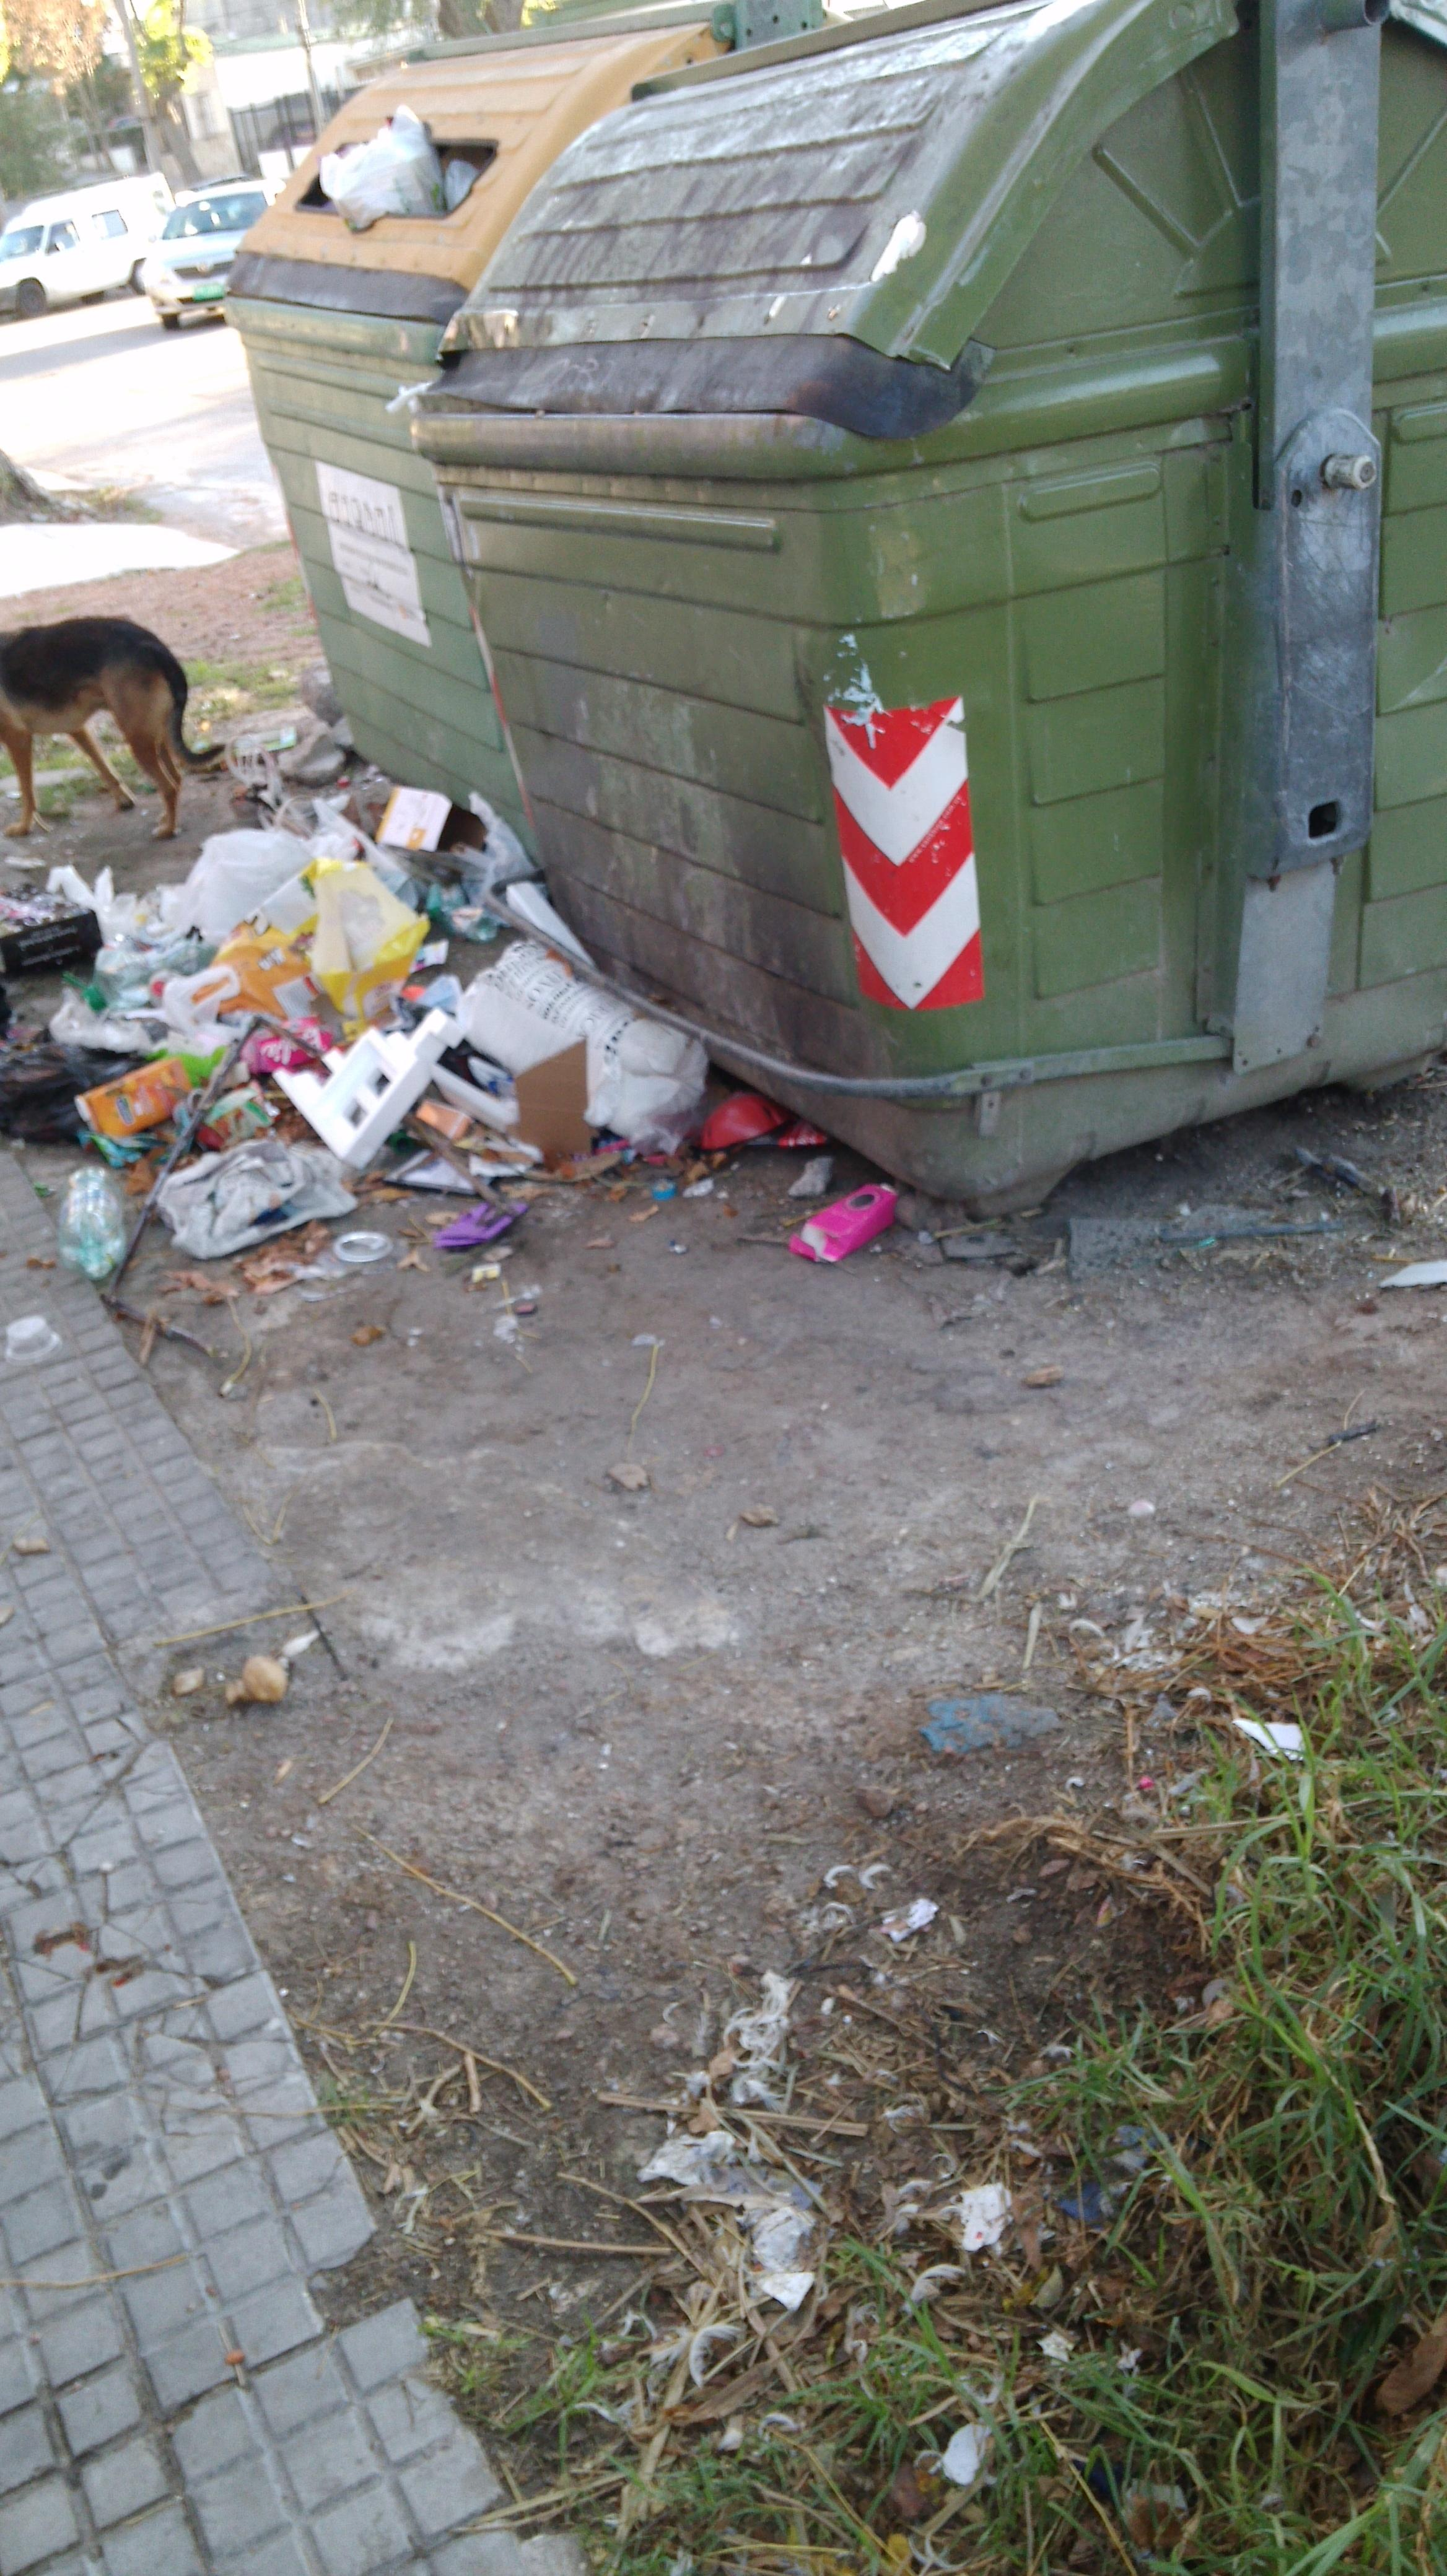Dechets: (35, 782, 769, 1316)
Trash: (211, 14, 1447, 1233)
